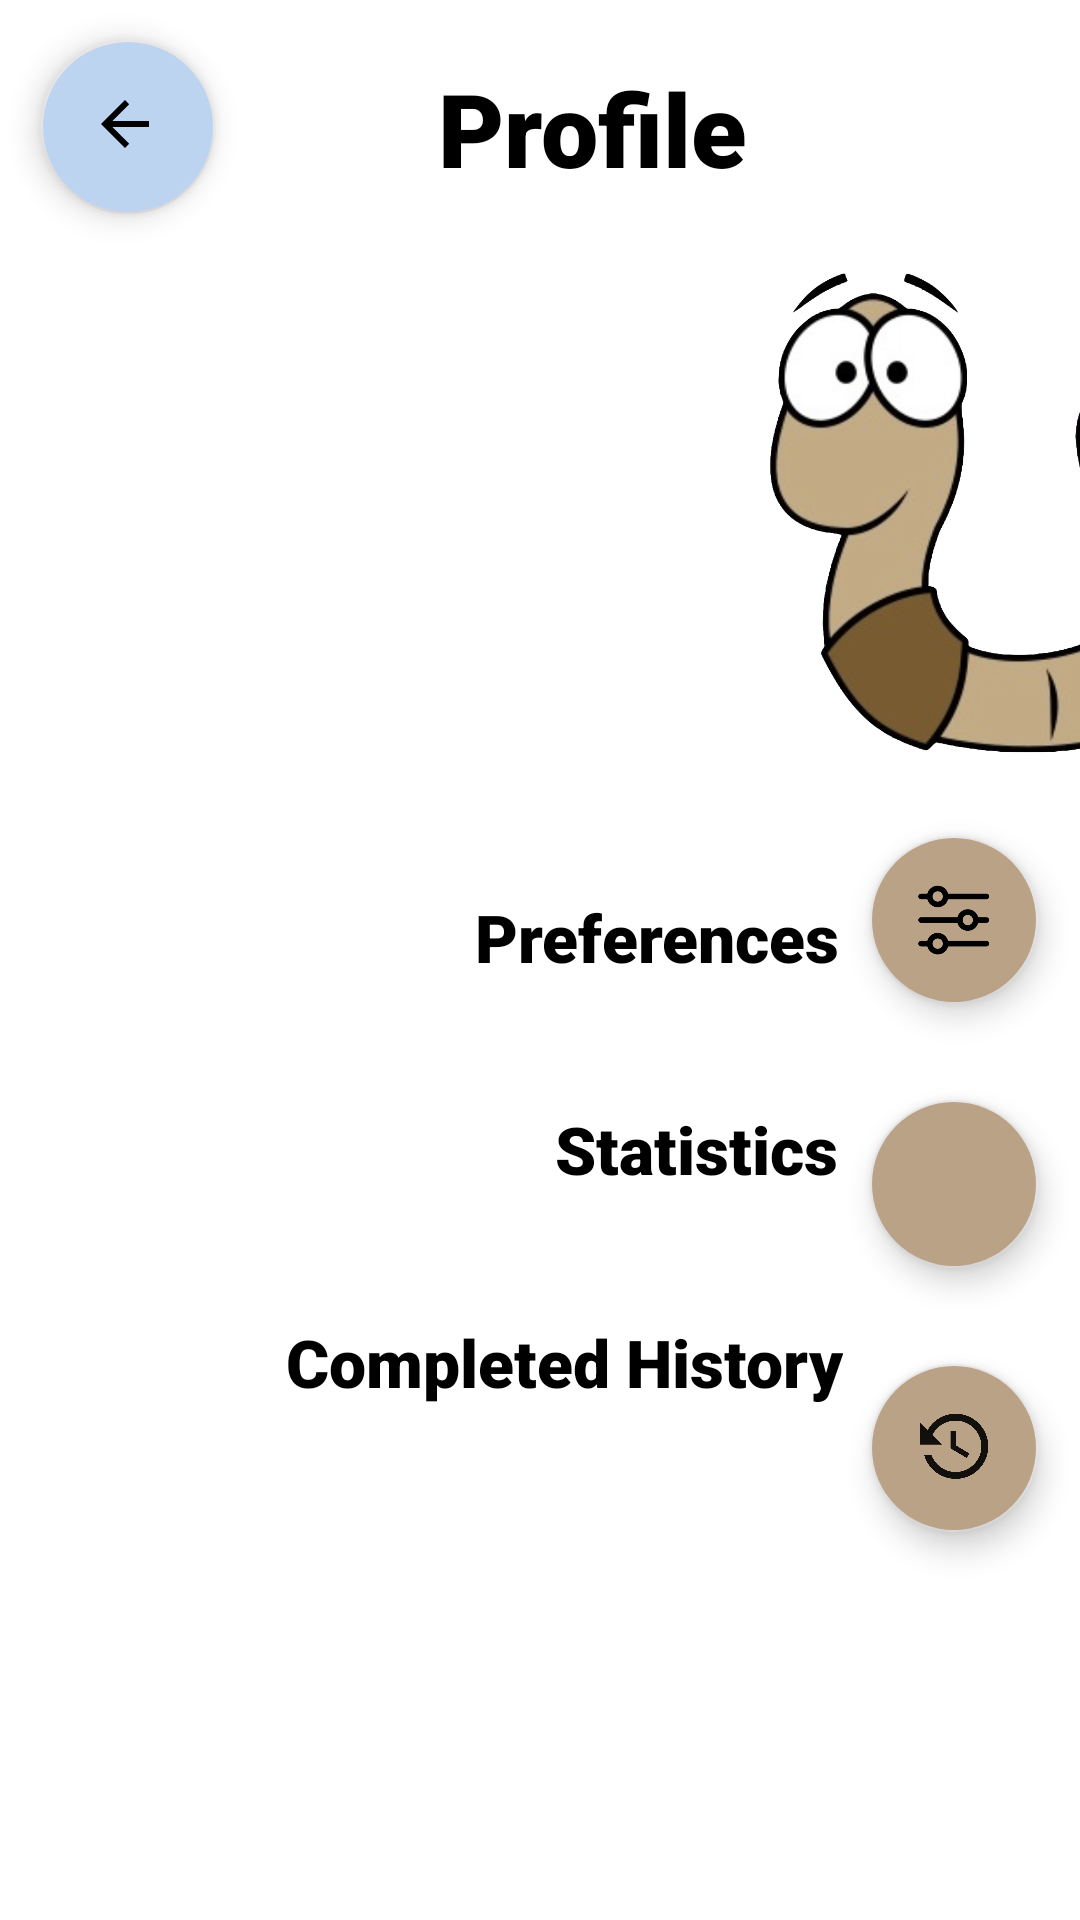

Icon bounding boxes for this 1080 × 1920 phone screenshot, format bbox(x1, y1, x2, y2):
Back Button: bbox(41, 42, 215, 214)
